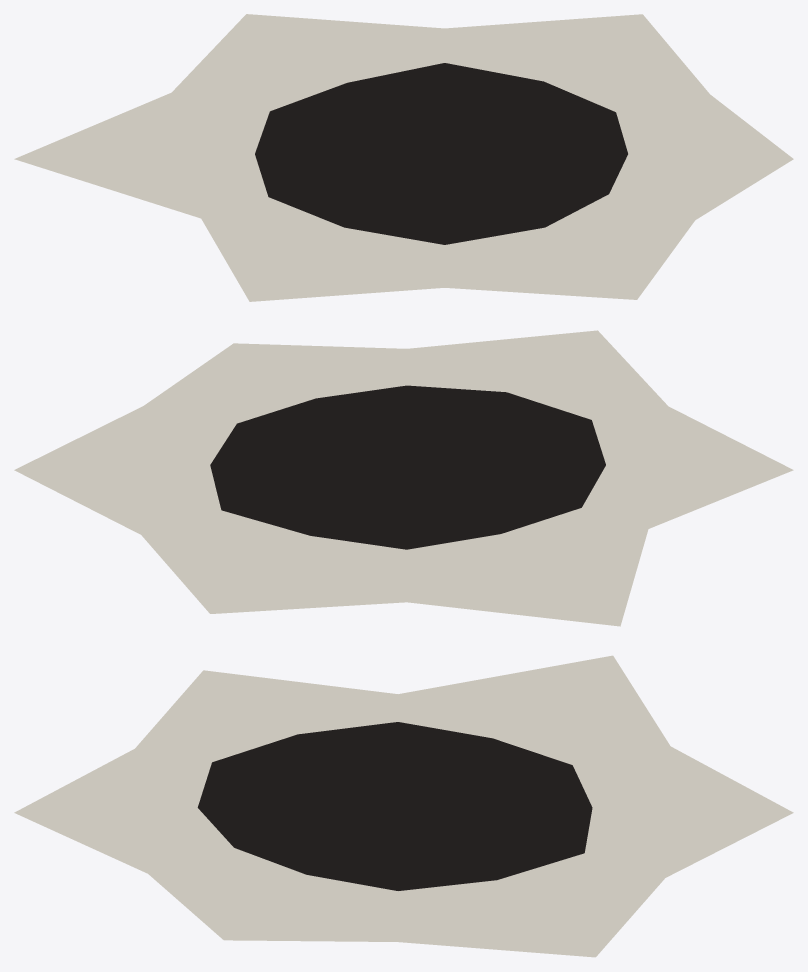
File: hole_wall_11.obj
3 views of the same model, one above another, from view 1: azimuth 30°, elevation 25°; view 2: azimuth 150°, elevation 25°; view 3: azimuth 270°, elevation 25° (orthographic).
Size of the model in its own units: 0.051 by 0.0004 by 0.0557.
